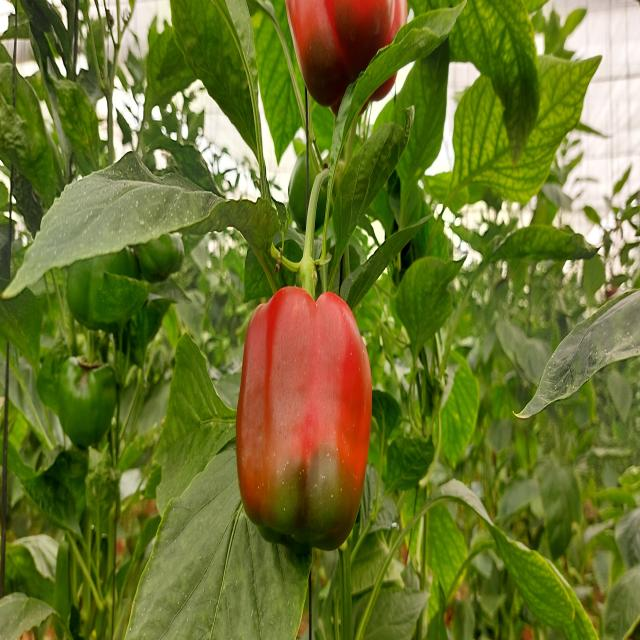BrownishRed--Can-be-Harvested: (235, 286, 367, 548)
Red-Ready-to-Harvest: (290, 3, 402, 106)
